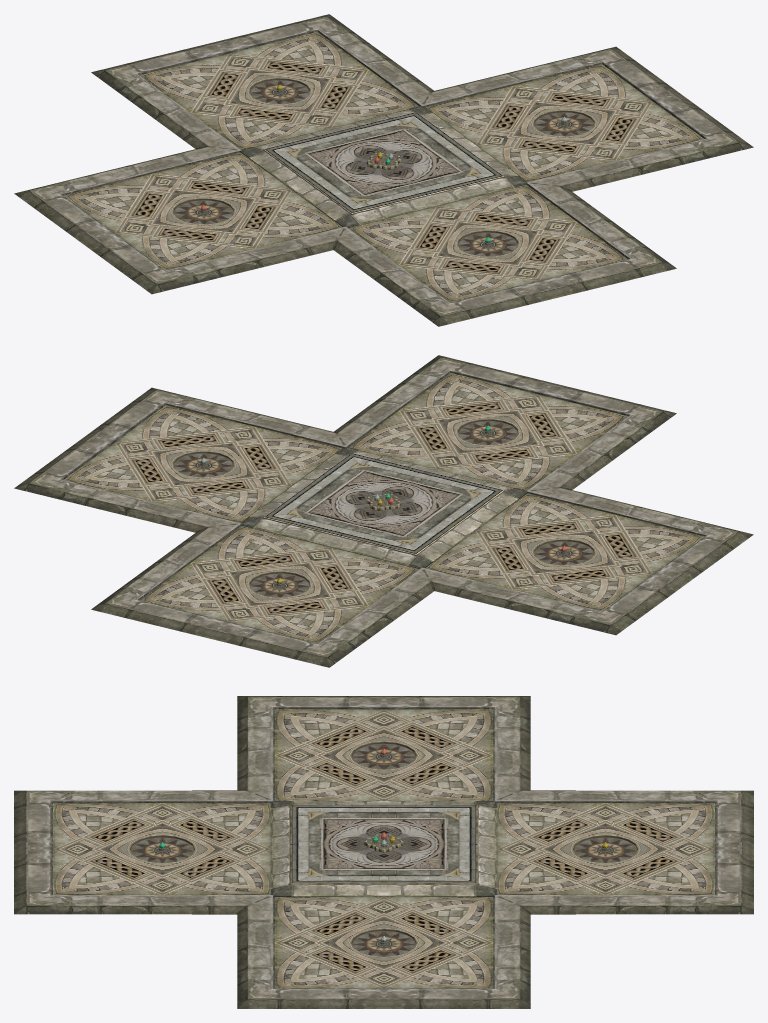
The model's file is Monster_manticore_trap_bandpose.FBX.
The picture shows the model from 3 angles, top to bottom: view 1: azimuth 30°, elevation 25°; view 2: azimuth 150°, elevation 25°; view 3: azimuth 270°, elevation 25°; orthographic projection. The views are drawn at different scales.
Parts seen in each view (by area): view 1: ManticoreNest_Trap_01, Point012, Point010, ManticoreNest_Trap_02, Point011; view 2: ManticoreNest_Trap_01, ManticoreNest_Trap_02, Point010, Point012, Point011; view 3: ManticoreNest_Trap_01, Point011, Point010, Point012, ManticoreNest_Trap_02.
Boxes of the visible parts, x1,y1,x2,y2 form: ManticoreNest_Trap_01: (14,14,753,326); Point012: (348,184,627,302); Point010: (63,152,342,270); ManticoreNest_Trap_02: (140,32,418,149); Point011: (425,64,703,181); ManticoreNest_Trap_01: (14,355,753,667); ManticoreNest_Trap_02: (140,525,419,643); Point010: (425,493,704,611); Point012: (349,373,627,490); Point011: (64,405,342,522); ManticoreNest_Trap_01: (14,696,753,1008); Point011: (274,897,493,988); Point010: (274,709,493,800); Point012: (53,803,270,894); ManticoreNest_Trap_02: (497,803,714,894).
Size of the model in its own units: 3939 by 115 by 3939.
